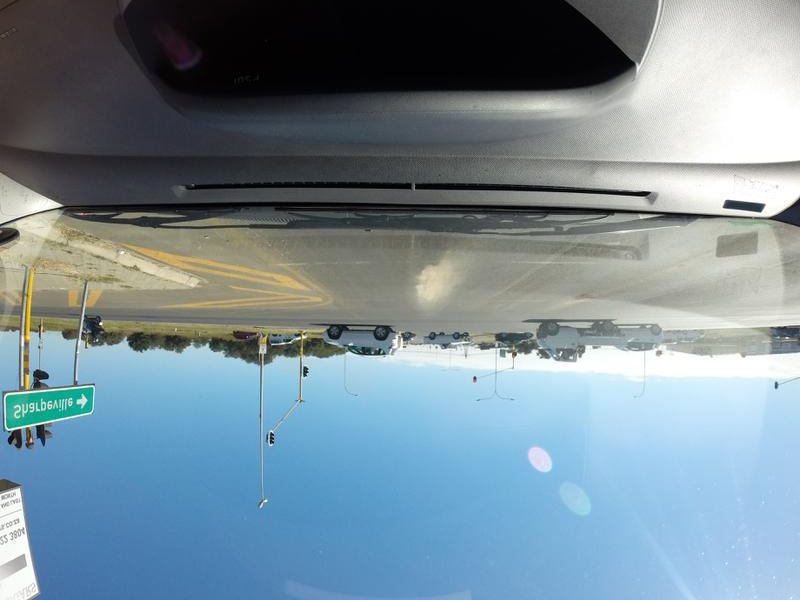pothole: (575, 295, 598, 303)
